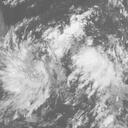cyclone: (2, 38, 51, 116), (70, 36, 119, 97)
